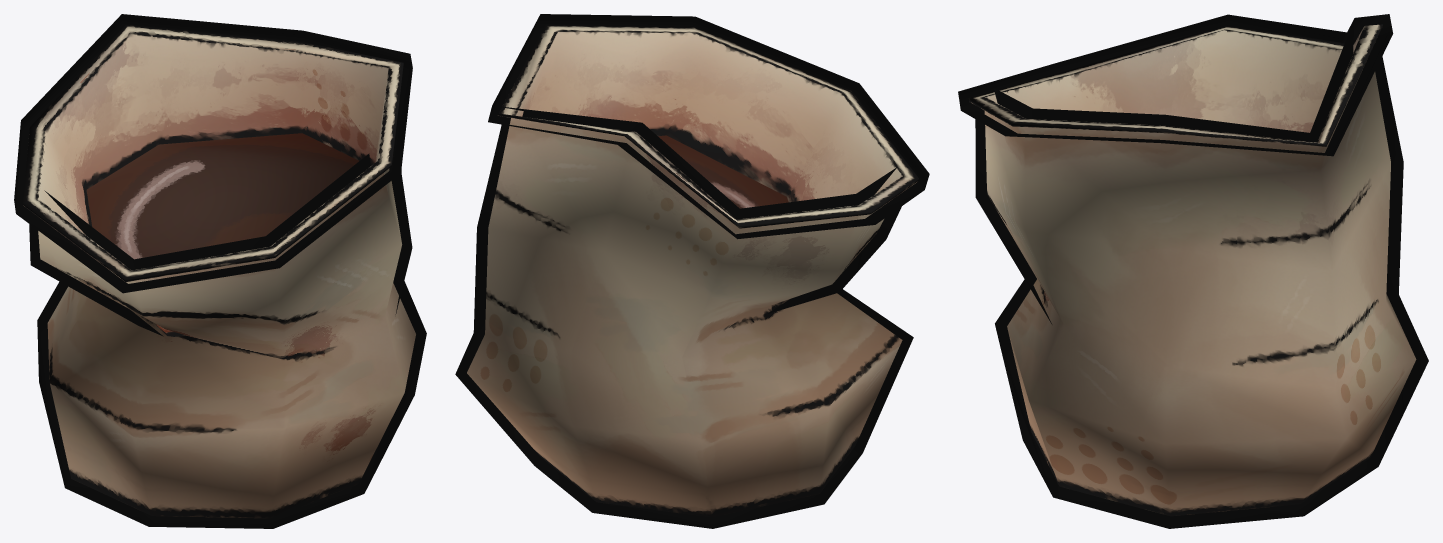
The model's file is Trash_CoffeeCup.glb.
The picture shows the model from 3 angles, left to right: view 1: azimuth 30°, elevation 25°; view 2: azimuth 150°, elevation 25°; view 3: azimuth 270°, elevation 25°; orthographic projection. The views are drawn at different scales.
Visible parts, largest first — view 1: CoffeecUP; view 2: CoffeecUP; view 3: CoffeecUP.
Part boxes in pixels (<box>): CoffeecUP: <box>14,14,426,528</box>; CoffeecUP: <box>455,14,929,528</box>; CoffeecUP: <box>958,14,1428,528</box>.
Size of the model in its own units: 2.78 by 2.72 by 2.66.
Materials: 2 (1 with a texture image).
